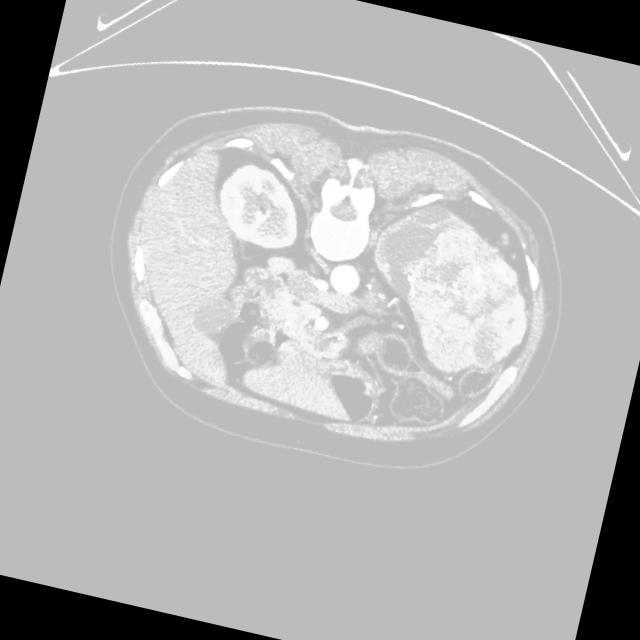TUMOR: (163, 158, 534, 376)
